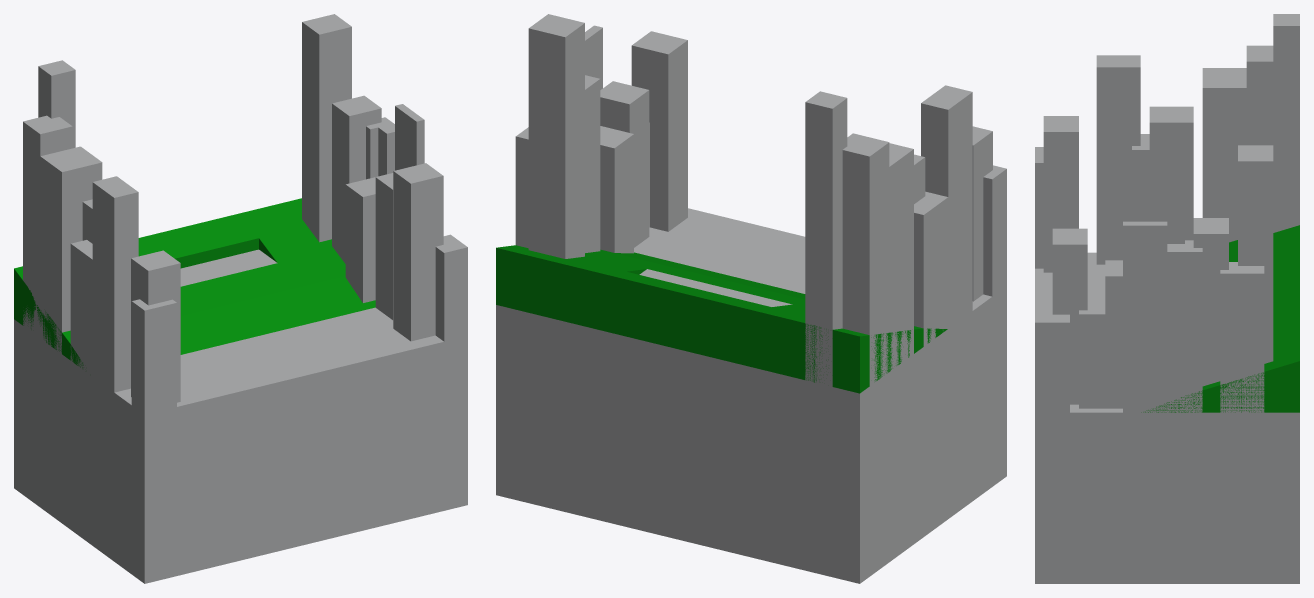
The model's file is table_R07_latest.glb.
3 views of the same model, side by side, from view 1: azimuth 30°, elevation 25°; view 2: azimuth 150°, elevation 25°; view 3: azimuth 270°, elevation 25° (orthographic). The views are drawn at different scales.
Visible parts, largest first — view 1: table, slope; view 2: table, slope; view 3: table, slope.
Part boxes in pixels (x1,y1,x2,y2): table: (14,14,467,583); slope: (14,198,375,368); table: (496,14,1006,583); slope: (496,245,947,393); table: (1035,14,1299,583); slope: (1141,225,1299,412).
Size of what is drawn, in the model's own units: 2 by 2.46 by 1.4.
